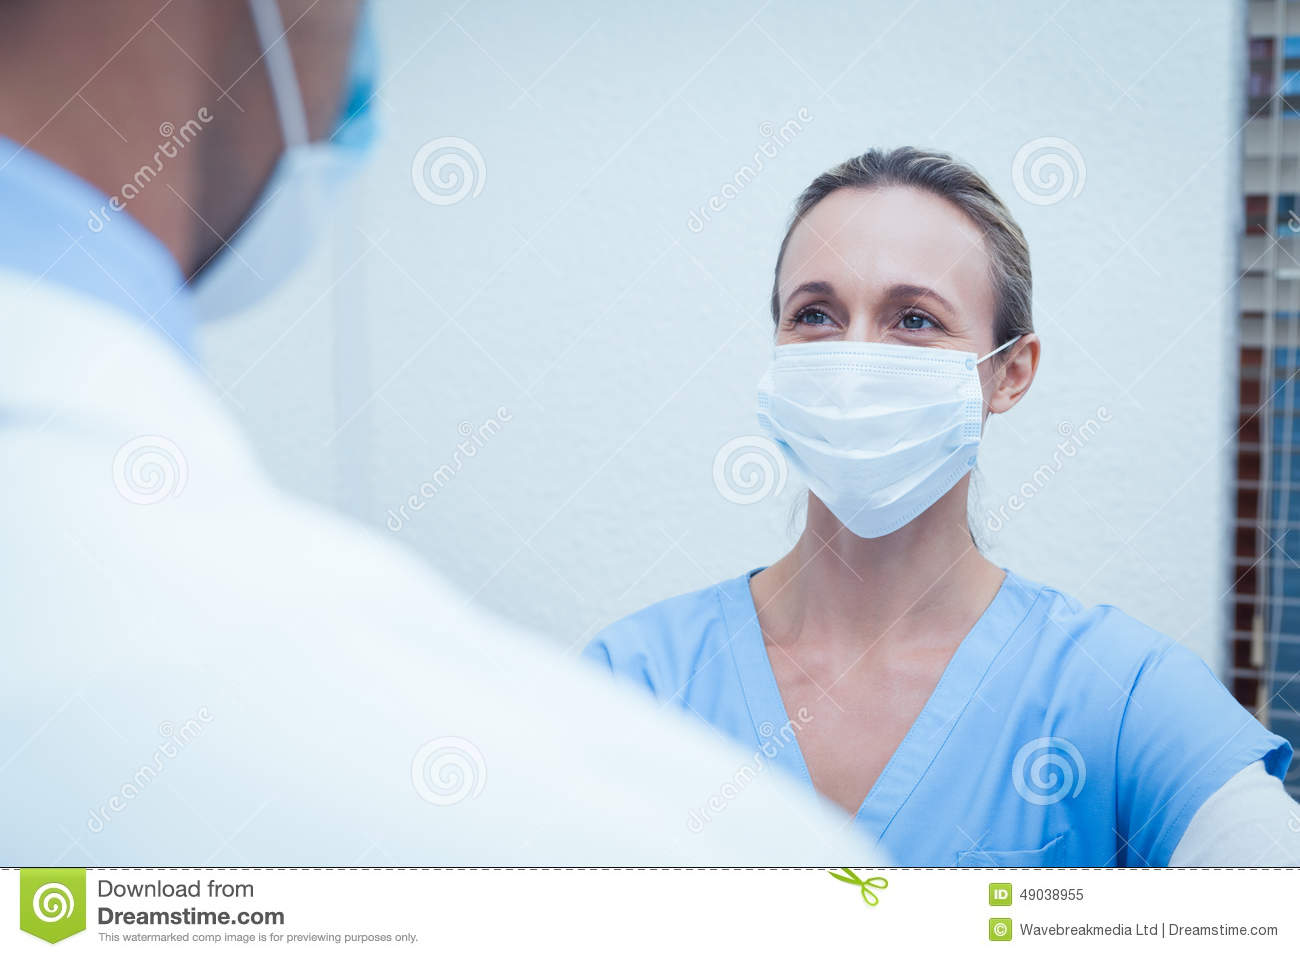mask: (744, 345, 1001, 523)
